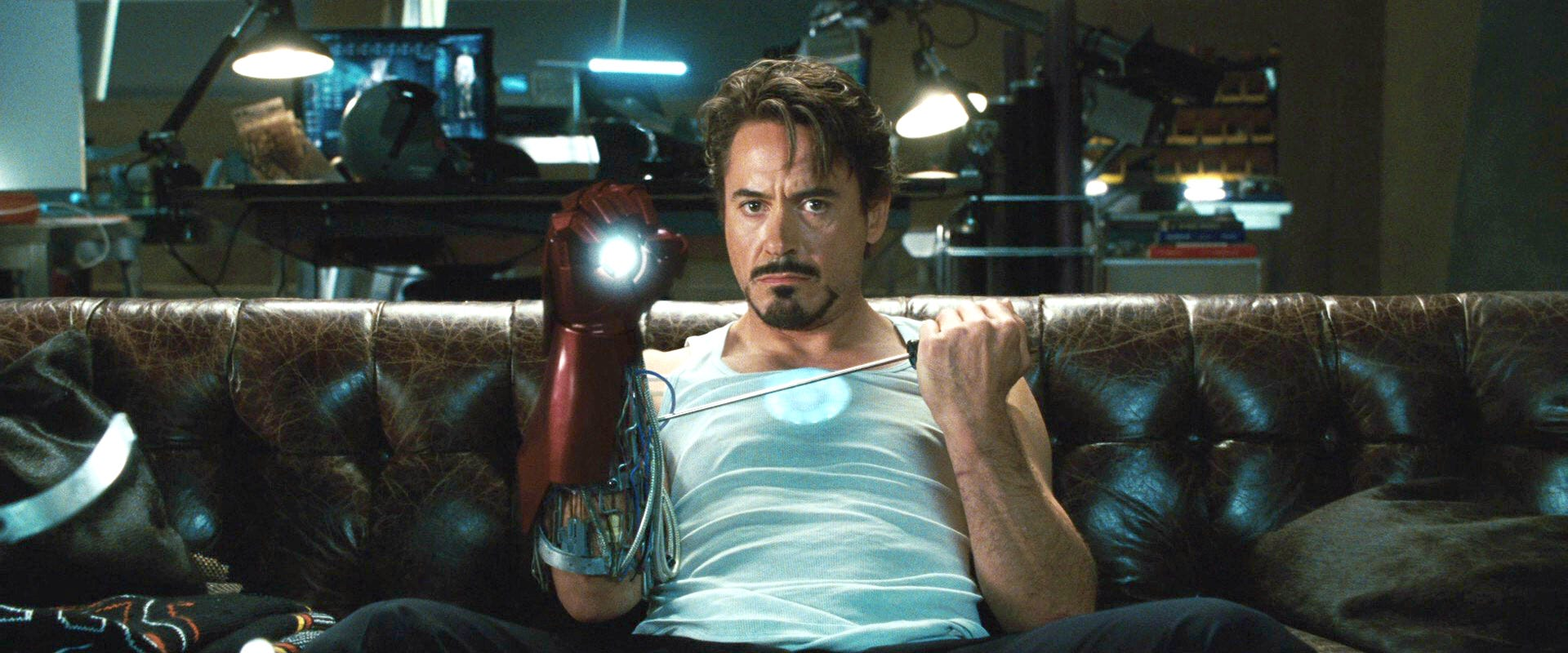Screwdriver: (654, 340, 918, 421)
